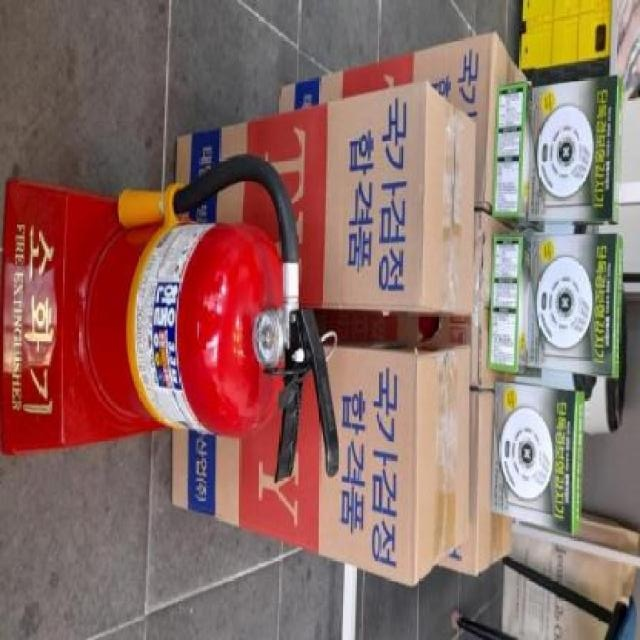fire extinguisher: (85, 153, 340, 484)
